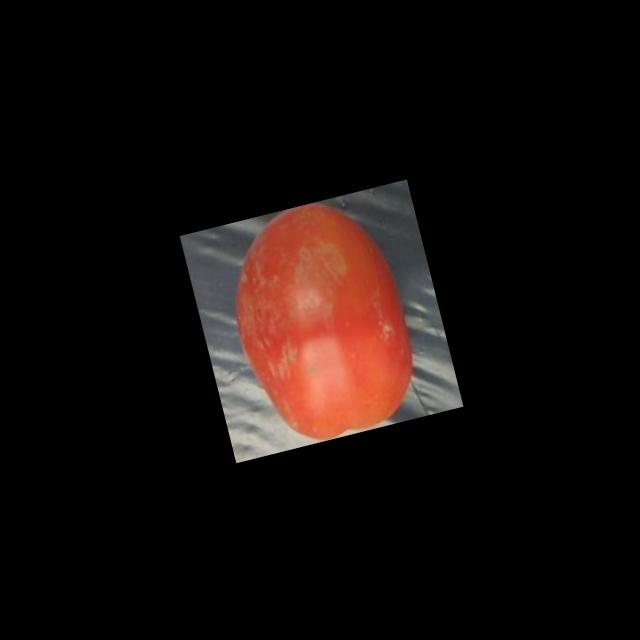tomato: (210, 186, 434, 454)
